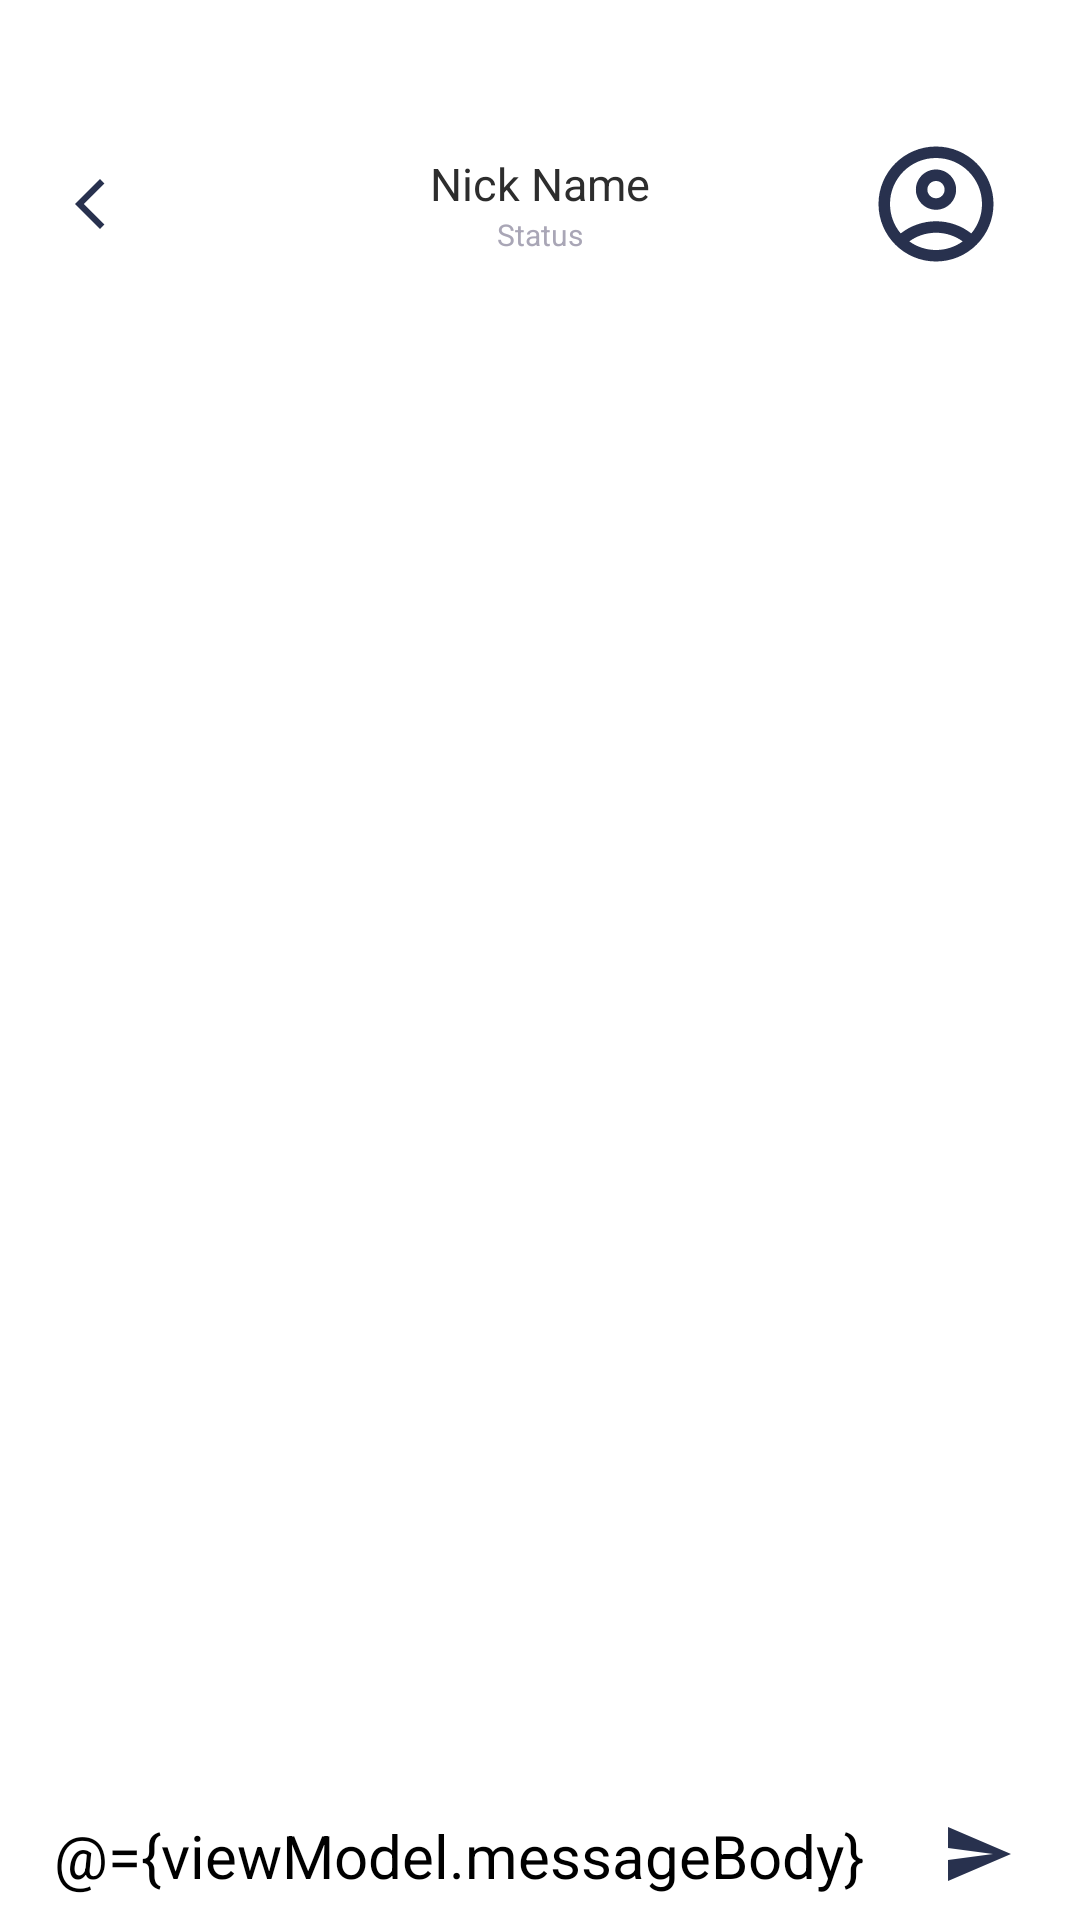

Named icons in this screenshot (1080x1920) and their bounding boxes, (x1, y1, x2, y2):
account: (878, 146, 994, 262)
back: (75, 179, 105, 229)
send: (948, 1827, 1011, 1881)
